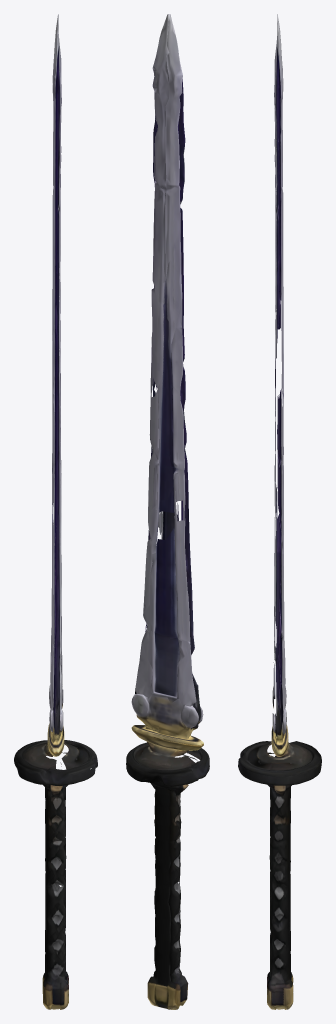
Rendered from shadow_katana_tripo_20261008.glb.
3 views of the same model, side by side, from view 1: azimuth 90°, elevation 25°; view 2: azimuth 150°, elevation 25°; view 3: azimuth 270°, elevation 25° (orthographic).
Visible parts, largest first — view 1: tripo_node_c9cae674-2f4d-49b5-8632-59f2a5caa740; view 2: tripo_node_c9cae674-2f4d-49b5-8632-59f2a5caa740; view 3: tripo_node_c9cae674-2f4d-49b5-8632-59f2a5caa740.
Boxes of the visible parts, x1,y1,x2,y2 form: tripo_node_c9cae674-2f4d-49b5-8632-59f2a5caa740: [14, 14, 97, 1009]; tripo_node_c9cae674-2f4d-49b5-8632-59f2a5caa740: [126, 14, 209, 1009]; tripo_node_c9cae674-2f4d-49b5-8632-59f2a5caa740: [238, 14, 321, 1009].
Size of the model in its own units: 0.0802 by 1.05 by 0.0804.
Materials: 1 (1 with a texture image).
